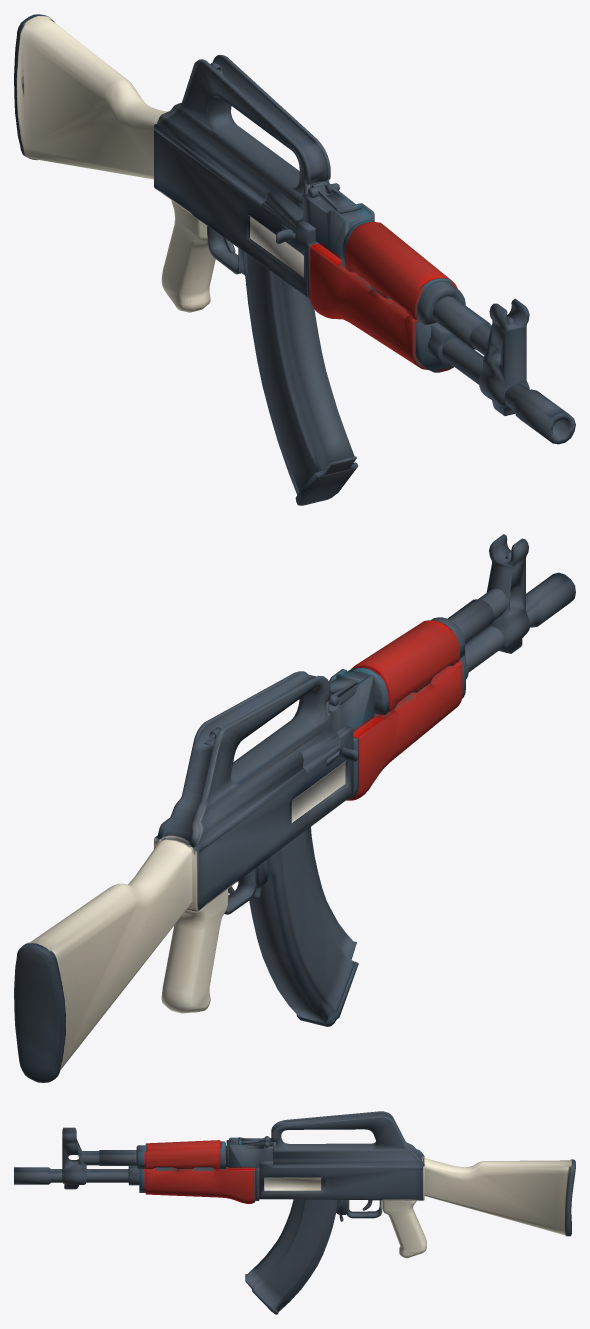
The model's file is wpn_ravage.glb.
3 views of the same model, one above another, from view 1: azimuth 30°, elevation 25°; view 2: azimuth 150°, elevation 25°; view 3: azimuth 270°, elevation 25° (orthographic). The views are drawn at different scales.
Visible parts, largest first — view 1: wpn_ravage; view 2: wpn_ravage; view 3: wpn_ravage.
Boxes of the visible parts, box(x1,y1,x2,y2) form: wpn_ravage: box(14, 14, 575, 505); wpn_ravage: box(14, 534, 575, 1082); wpn_ravage: box(14, 1111, 575, 1314).
Size of the model in its own units: 0.0718 by 0.3872 by 0.9995.
1 material, 1 textured.
